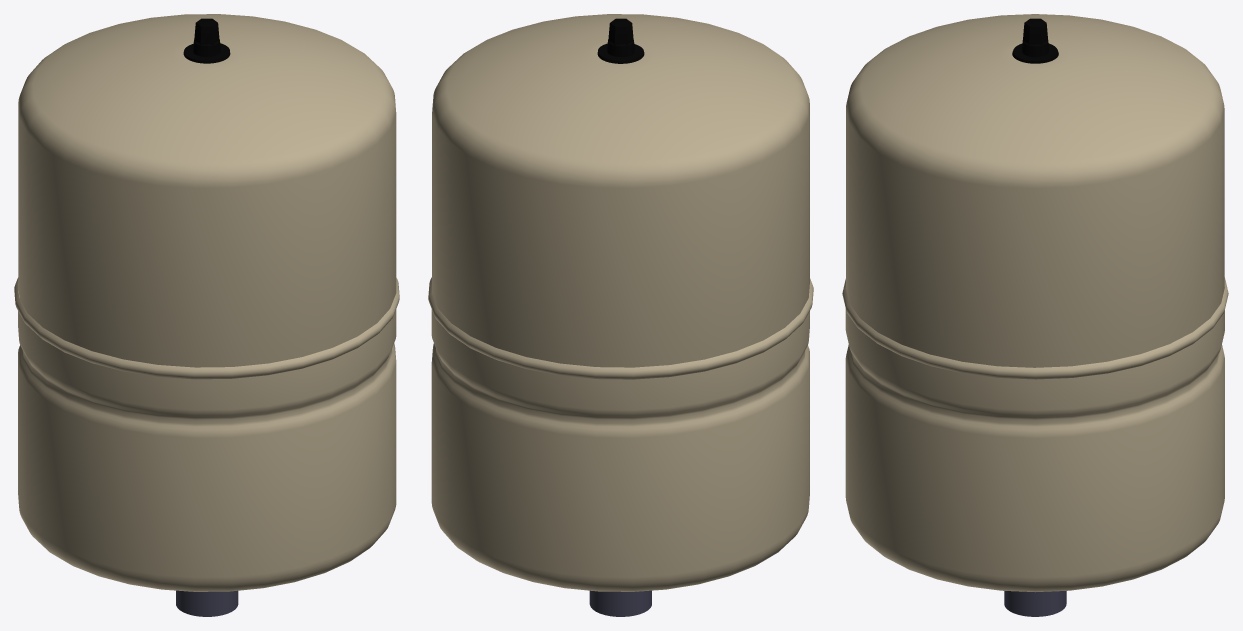
The model's file is 8lt-sabit-tank.obj.
3 views of the same model, side by side, from view 1: azimuth 30°, elevation 25°; view 2: azimuth 150°, elevation 25°; view 3: azimuth 270°, elevation 25° (orthographic).
Parts seen in each view (by area): view 1: 8lt-sabit-tank.004, 8lt-sabit-tank.001, 8lt-sabit-tank.005, 8lt-sabit-tank.007, 8lt-sabit-tank.014; view 2: 8lt-sabit-tank.004, 8lt-sabit-tank.001, 8lt-sabit-tank.005, 8lt-sabit-tank.007, 8lt-sabit-tank.014; view 3: 8lt-sabit-tank.004, 8lt-sabit-tank.001, 8lt-sabit-tank.005, 8lt-sabit-tank.007, 8lt-sabit-tank.014.
Part boxes in pixels (box(x1,y1,x2,y2)): 8lt-sabit-tank.004: box(18, 14, 396, 367); 8lt-sabit-tank.001: box(18, 290, 396, 591); 8lt-sabit-tank.005: box(14, 277, 399, 379); 8lt-sabit-tank.007: box(176, 590, 238, 616); 8lt-sabit-tank.014: box(183, 18, 230, 63); 8lt-sabit-tank.004: box(432, 14, 809, 367); 8lt-sabit-tank.001: box(431, 309, 809, 591); 8lt-sabit-tank.005: box(428, 277, 813, 379); 8lt-sabit-tank.007: box(589, 590, 651, 616); 8lt-sabit-tank.014: box(597, 18, 644, 63); 8lt-sabit-tank.004: box(846, 14, 1224, 367); 8lt-sabit-tank.001: box(845, 309, 1224, 592); 8lt-sabit-tank.005: box(842, 277, 1228, 379); 8lt-sabit-tank.007: box(1004, 591, 1066, 616); 8lt-sabit-tank.014: box(1012, 18, 1058, 63).
Bounding box in the file's own units: 12.87 × 21.36 × 12.87.
